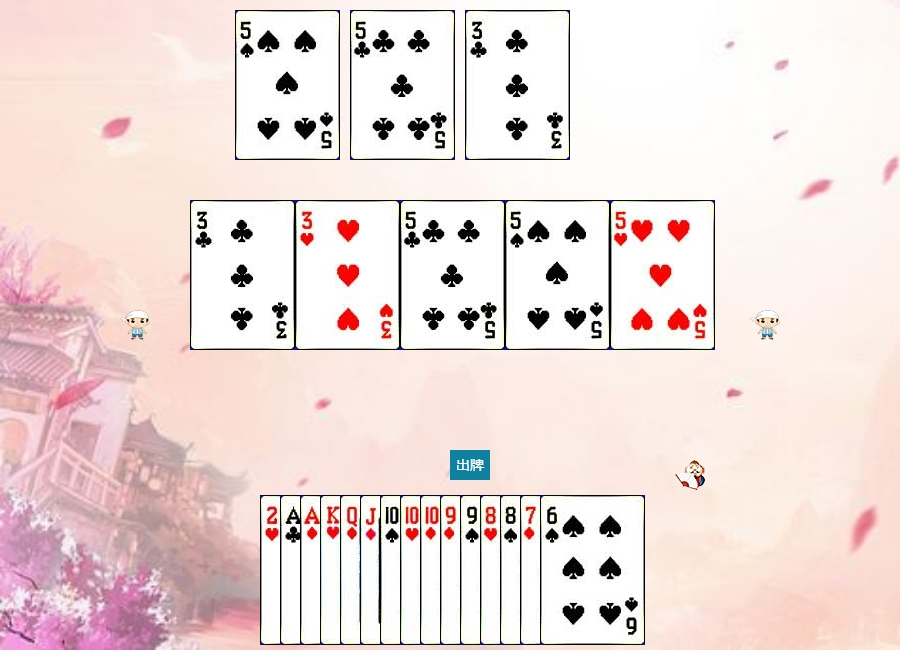10~1: (420, 495, 525, 645)
10~3: (400, 495, 505, 645)
10~4: (380, 495, 485, 645)
11~1: (360, 495, 465, 645)
12~1: (340, 495, 445, 645)
13~3: (320, 495, 425, 645)
14~1: (300, 495, 405, 645)
14~2: (280, 495, 385, 645)
15~3: (260, 495, 365, 645)
3~2: (465, 10, 570, 160), (190, 200, 295, 350)
3~3: (295, 200, 400, 350)
5~2: (350, 10, 455, 160), (400, 200, 505, 350)
5~3: (610, 200, 715, 350)
5~4: (235, 10, 340, 160), (505, 200, 610, 350)
6~4: (540, 495, 645, 645)
7~1: (520, 495, 625, 645)
8~3: (480, 495, 585, 645)
8~4: (500, 495, 605, 645)
9~1: (440, 495, 545, 645)
9~4: (460, 495, 565, 645)
